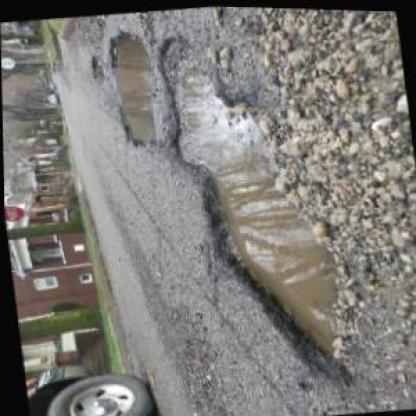pothole: (154, 15, 362, 392), (101, 23, 161, 148), (83, 50, 103, 79)
